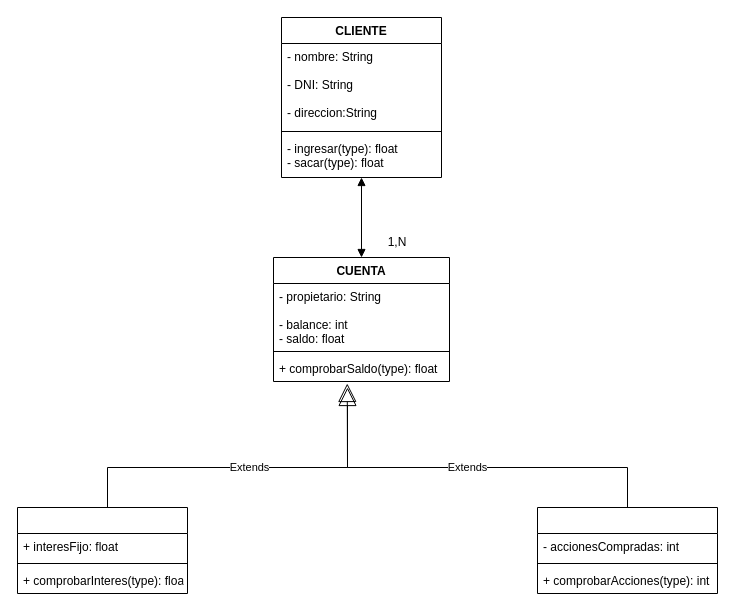
This 735x614 diagram has some shape labels left out. Each missing label, with the box of its shape:
Ahorro: (16, 506, 188, 594)
Inversion: (536, 506, 718, 594)
